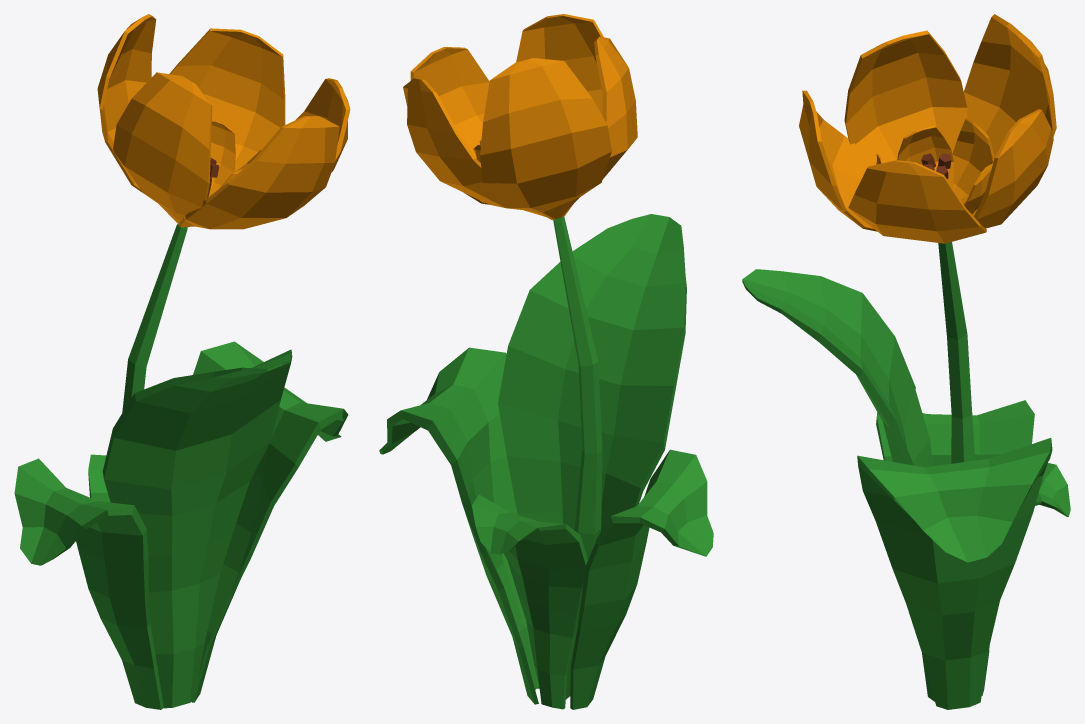
Rendered from flor.fbx.
3 renders of one model, left to right at view 1: azimuth 30°, elevation 25°; view 2: azimuth 150°, elevation 25°; view 3: azimuth 270°, elevation 25°, orthographic.
Parts seen in each view (by area): view 1: Cube, Cube.004, Cylinder.001, Cube.005; view 2: Cube, Cube.004, Cylinder.001; view 3: Cube, Cube.004, Cylinder.001, Cube.005.
Part boxes in pixels (left/top/right/bottom): Cube: left=14, top=341, right=348, bottom=709; Cube.004: left=97, top=14, right=350, bottom=229; Cylinder.001: left=122, top=224, right=187, bottom=412; Cube.005: left=208, top=120, right=261, bottom=197; Cube: left=379, top=214, right=713, bottom=709; Cube.004: left=403, top=14, right=637, bottom=220; Cylinder.001: left=553, top=217, right=602, bottom=699; Cube: left=742, top=269, right=1070, bottom=709; Cube.004: left=799, top=14, right=1056, bottom=243; Cylinder.001: left=938, top=242, right=975, bottom=463; Cube.005: left=876, top=118, right=994, bottom=213.
Bounding box in the file's own units: 408 × 826 × 365.
